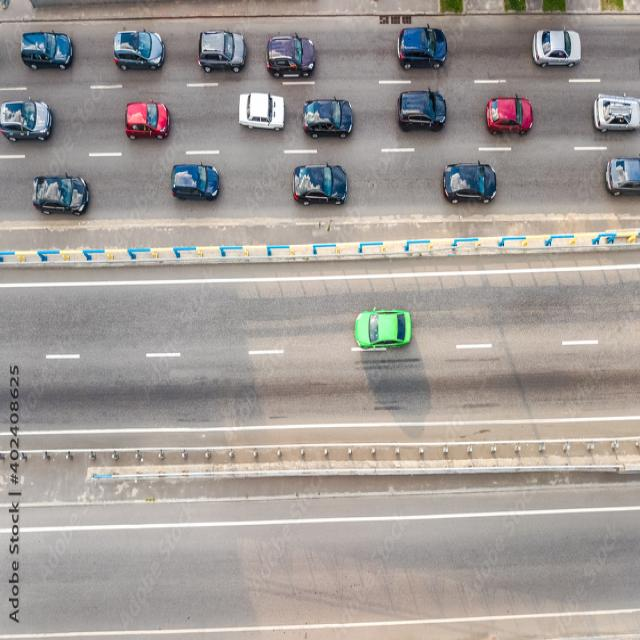Carro Branco: (234, 90, 287, 137)
Carro Cinza: (110, 25, 168, 76), (194, 26, 250, 78), (0, 96, 58, 145), (603, 156, 640, 198)
Carro Marrom: (263, 30, 319, 80)
Carro Prata: (529, 24, 584, 73), (589, 90, 640, 140)
Carro Preto: (289, 156, 351, 213), (28, 171, 92, 222), (300, 92, 357, 146), (168, 157, 224, 206), (441, 162, 500, 207), (18, 28, 75, 74), (395, 86, 449, 134), (396, 24, 448, 73)
Carro Verde: (354, 305, 413, 354)
Carro Vermelho: (122, 96, 174, 144), (484, 92, 535, 138)
